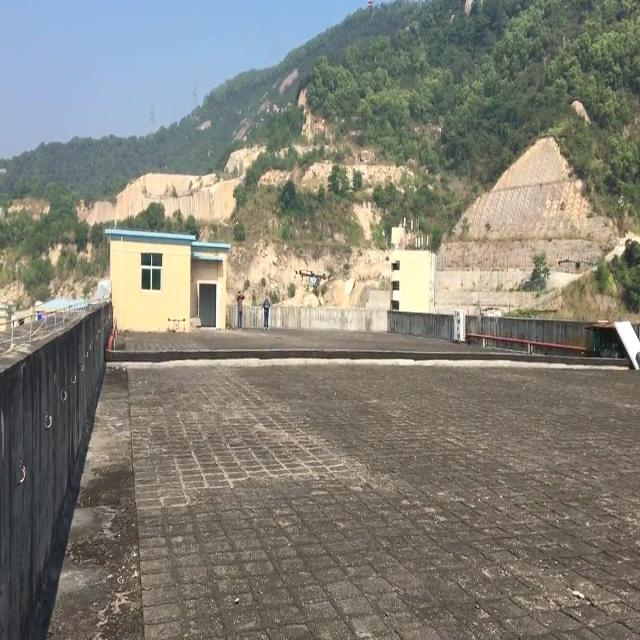drone: (298, 267, 329, 291)
